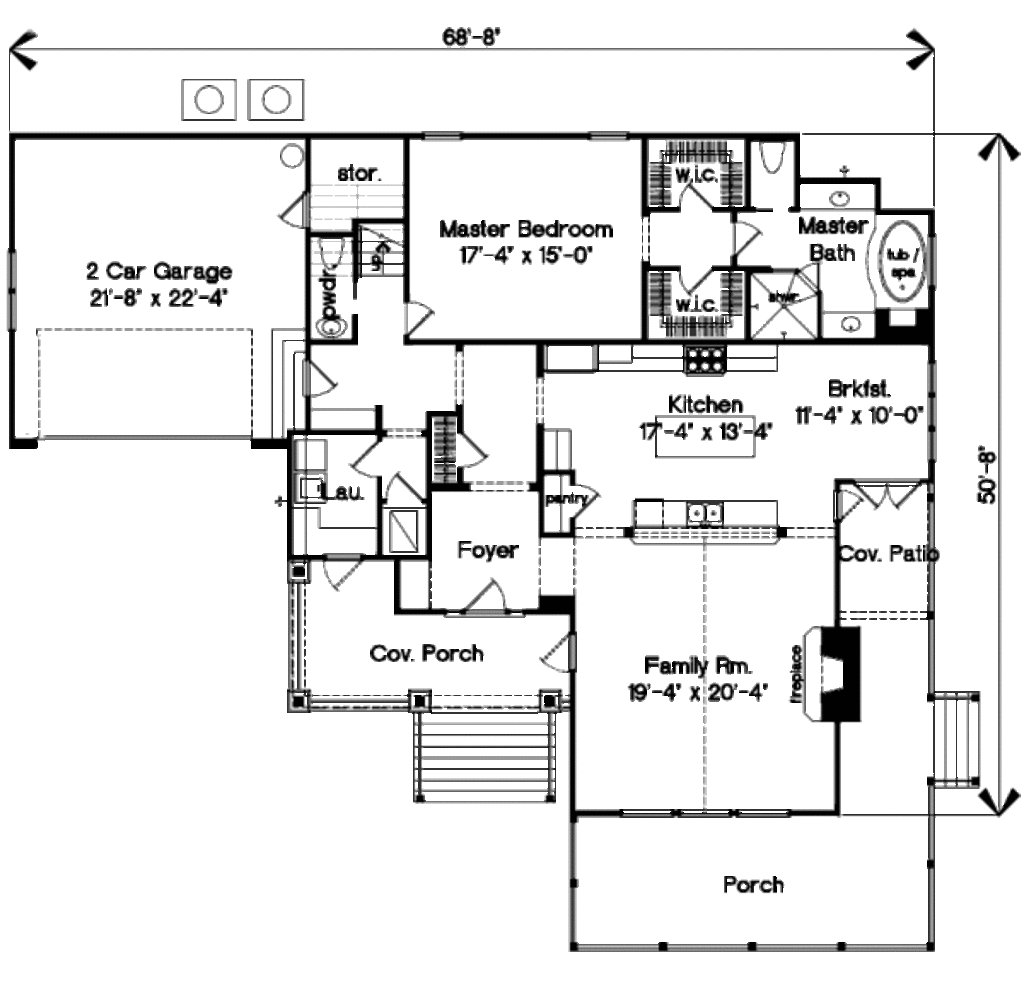door: (376, 466, 436, 512), (847, 475, 923, 511), (314, 542, 363, 597), (454, 572, 513, 617), (825, 474, 870, 532), (659, 168, 719, 211), (300, 352, 345, 405), (727, 206, 768, 263), (270, 186, 313, 239), (447, 427, 495, 474), (542, 631, 588, 679), (666, 261, 718, 297), (350, 427, 383, 479), (565, 478, 600, 525), (402, 295, 441, 335)
large_sink: (753, 125, 789, 183), (313, 231, 351, 268)
small_sink: (814, 309, 880, 346), (808, 179, 872, 205)
stairs: (305, 128, 397, 278), (911, 683, 991, 794)
twin_sink: (675, 486, 724, 534)
